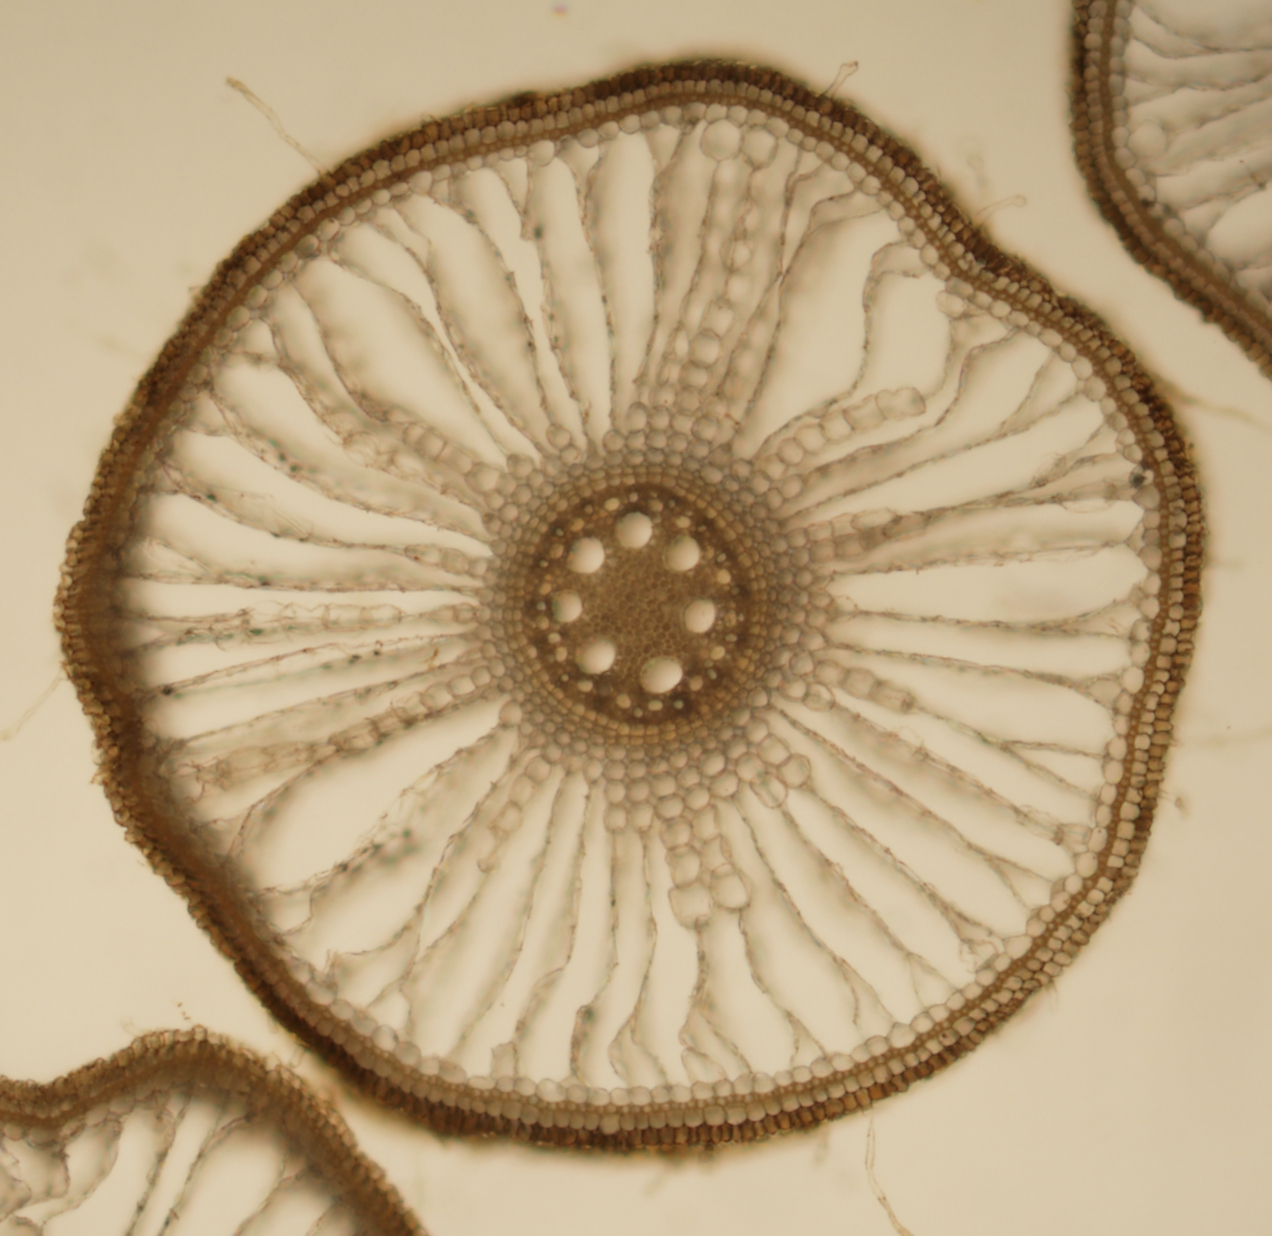lm: (574, 634, 616, 674), (639, 655, 683, 693), (566, 536, 605, 574), (663, 534, 701, 573), (616, 511, 652, 549), (683, 598, 715, 633), (551, 588, 583, 623)
